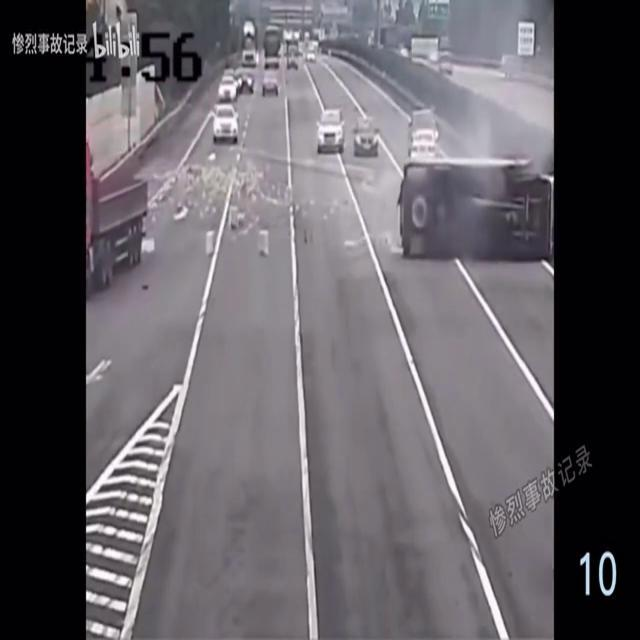normal: (198, 82, 457, 165)
single accident: (330, 105, 602, 278)
